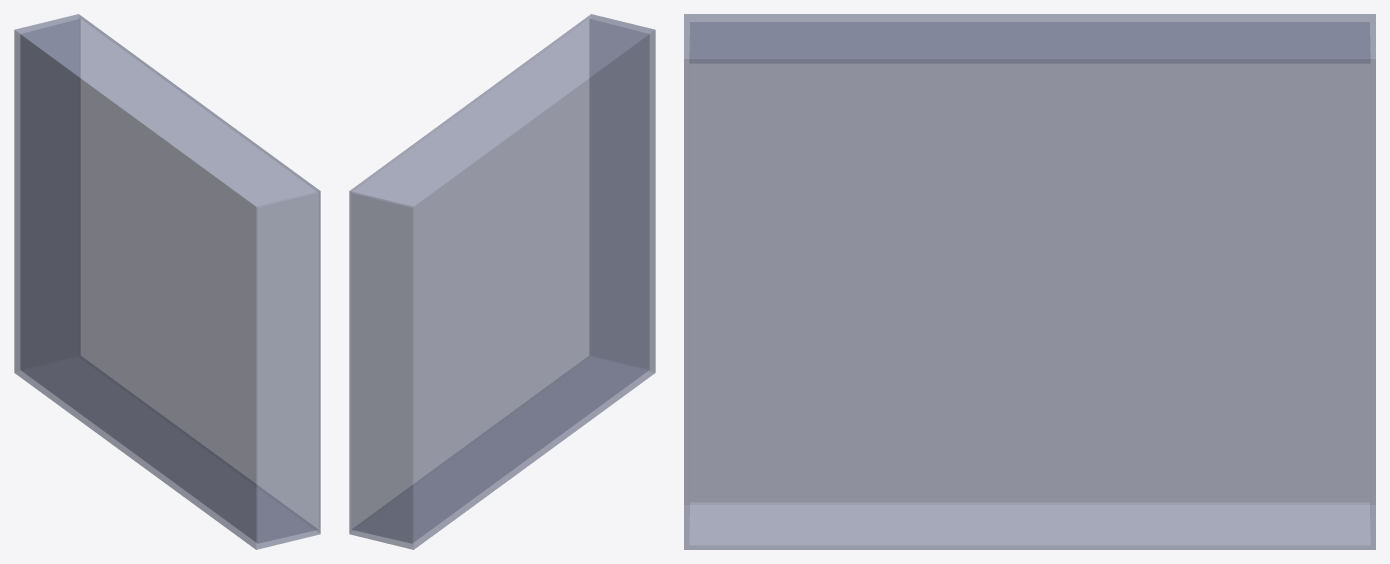
3 views of the same model, side by side, from view 1: azimuth 30°, elevation 25°; view 2: azimuth 150°, elevation 25°; view 3: azimuth 270°, elevation 25° (orthographic). The views are drawn at different scales.
Parts seen in each view (by area): view 1: pCube10; view 2: pCube10; view 3: pCube10.
Part boxes in pixels (bbox=[...]): pCube10: bbox=[14, 14, 320, 549]; pCube10: bbox=[349, 14, 655, 549]; pCube10: bbox=[684, 14, 1375, 549].
Bounding box in the file's own units: 2.23 × 11.39 × 14.55.
